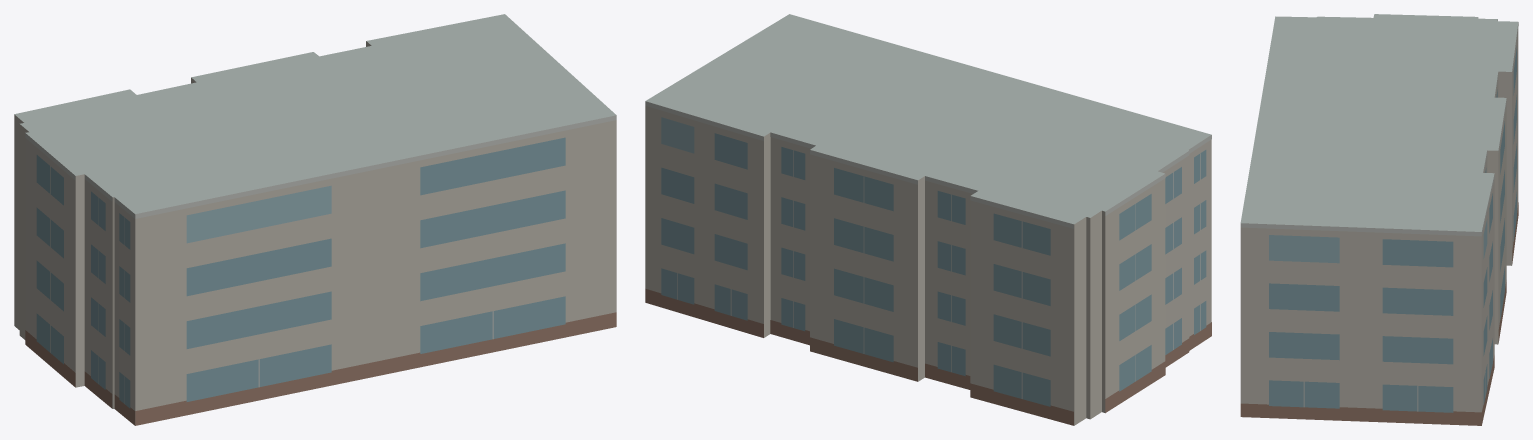
The model's file is survey-upis-33013953.glb.
3 views of the same model, side by side, from view 1: azimuth 30°, elevation 25°; view 2: azimuth 150°, elevation 25°; view 3: azimuth 270°, elevation 25° (orthographic). The views are drawn at different scales.
Parts seen in each view (by area): view 1: survey-upis-33013953.tmp; view 2: survey-upis-33013953.tmp; view 3: survey-upis-33013953.tmp.
Boxes of the visible parts, x1,y1,x2,y2 form: survey-upis-33013953.tmp: [14, 14, 616, 425]; survey-upis-33013953.tmp: [645, 14, 1211, 425]; survey-upis-33013953.tmp: [1240, 14, 1518, 425].
Bounding box in the file's own units: 26.06 × 10.8 × 14.04.
